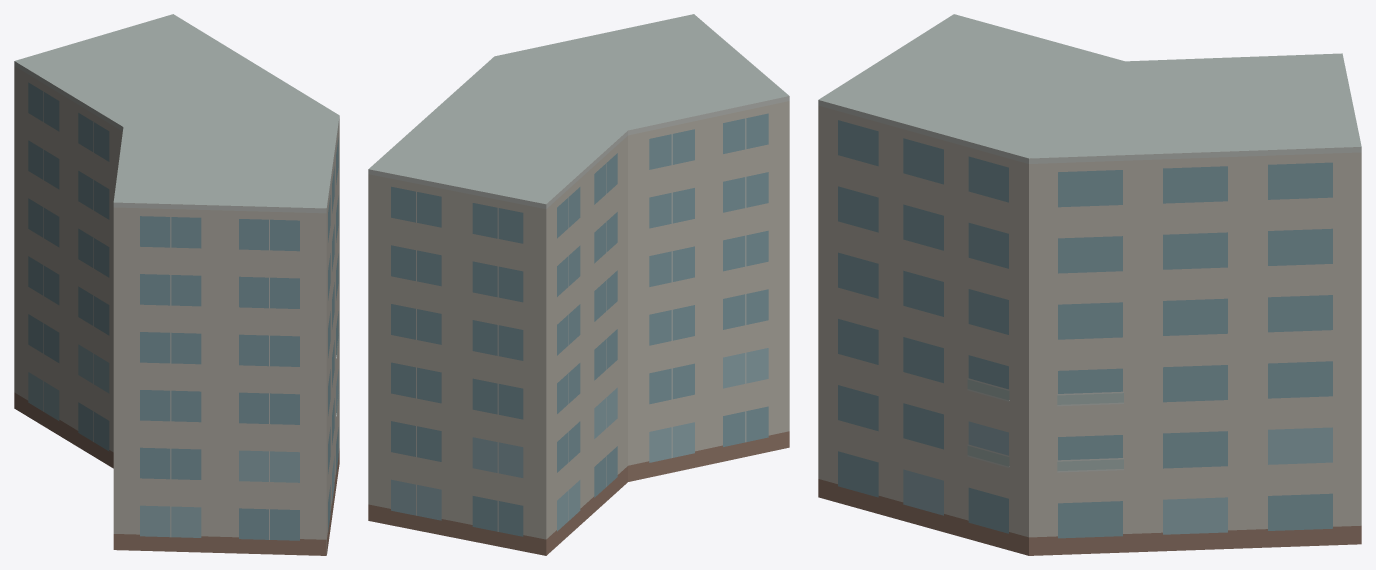
Rendered from survey-upis-32520320.glb.
3 views of the same model, side by side, from view 1: azimuth 30°, elevation 25°; view 2: azimuth 150°, elevation 25°; view 3: azimuth 270°, elevation 25° (orthographic). The views are drawn at different scales.
Parts seen in each view (by area): view 1: survey-upis-32520320.tmp; view 2: survey-upis-32520320.tmp; view 3: survey-upis-32520320.tmp.
Part boxes in pixels (x1,y1,x2,y2): survey-upis-32520320.tmp: (14, 14, 339, 555); survey-upis-32520320.tmp: (368, 14, 789, 555); survey-upis-32520320.tmp: (818, 14, 1361, 555).
Bounding box in the file's own units: 13.42 × 17.2 × 21.33.
